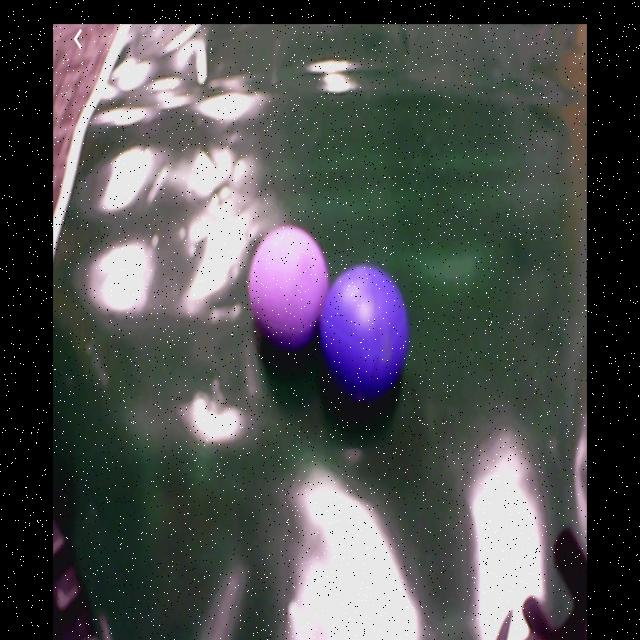ball: (325, 264, 409, 400), (250, 228, 329, 348)
